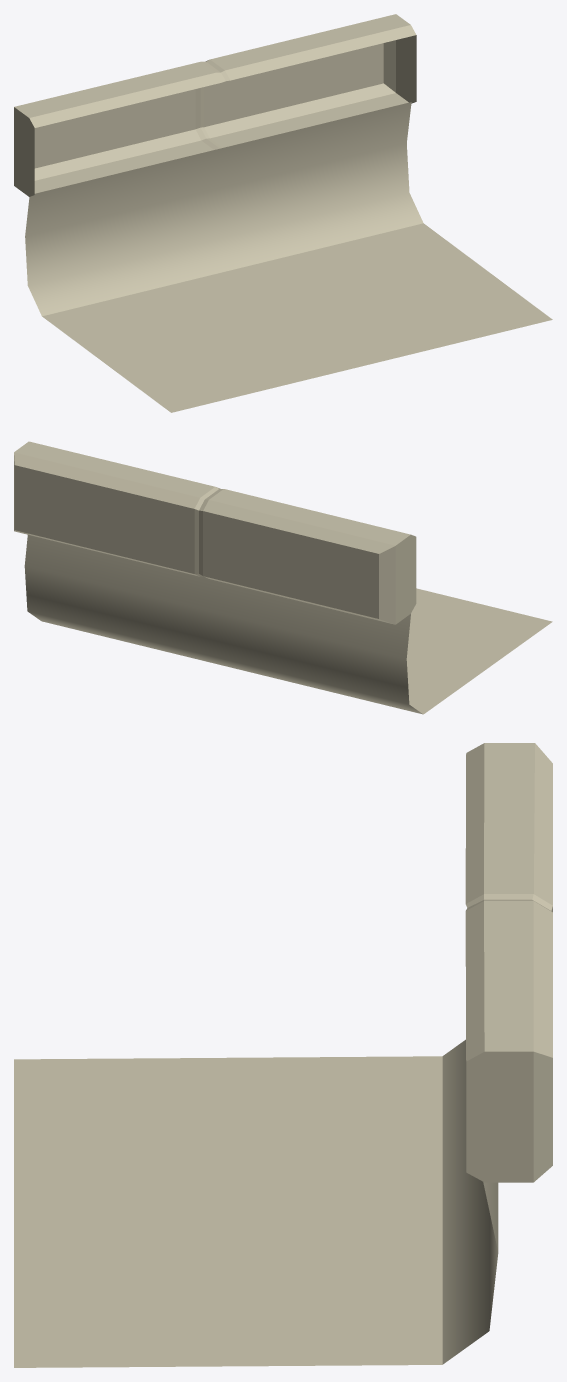
Rendered from Doorway.fbx.
3 views of the same model, one above another, from view 1: azimuth 30°, elevation 25°; view 2: azimuth 150°, elevation 25°; view 3: azimuth 270°, elevation 25° (orthographic). The views are drawn at different scales.
Parts seen in each view (by area): view 1: Doorway; view 2: Doorway; view 3: Doorway.
Boxes of the visible parts, left/top/right/bottom form: Doorway: left=14, top=14, right=552, bottom=412; Doorway: left=14, top=441, right=552, bottom=714; Doorway: left=14, top=743, right=552, bottom=1367.
Size of the model in its own units: 1 by 0.478 by 0.7381.
